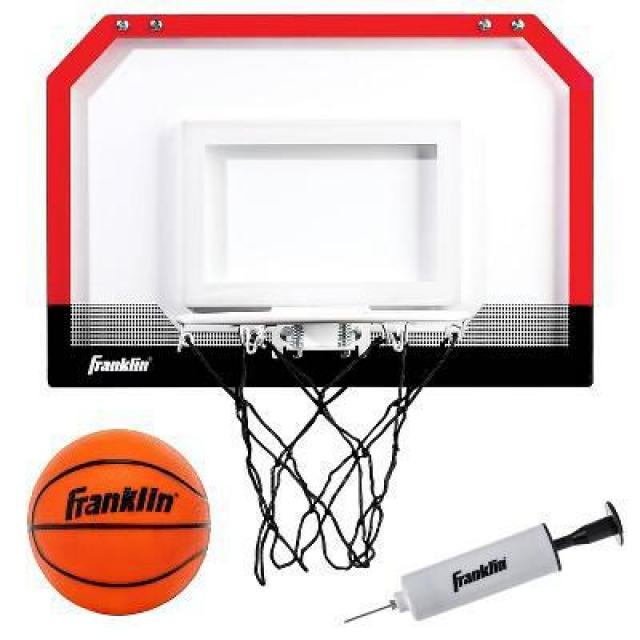Basketball: (28, 427, 212, 616)
hoop: (178, 317, 468, 585)
